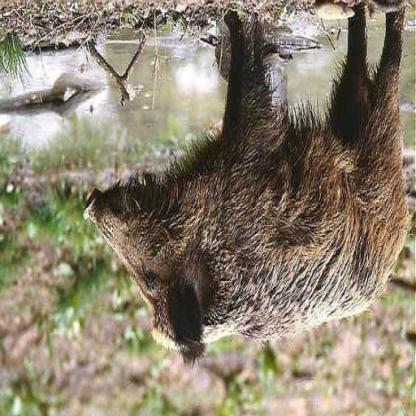boar: (56, 6, 405, 384)
